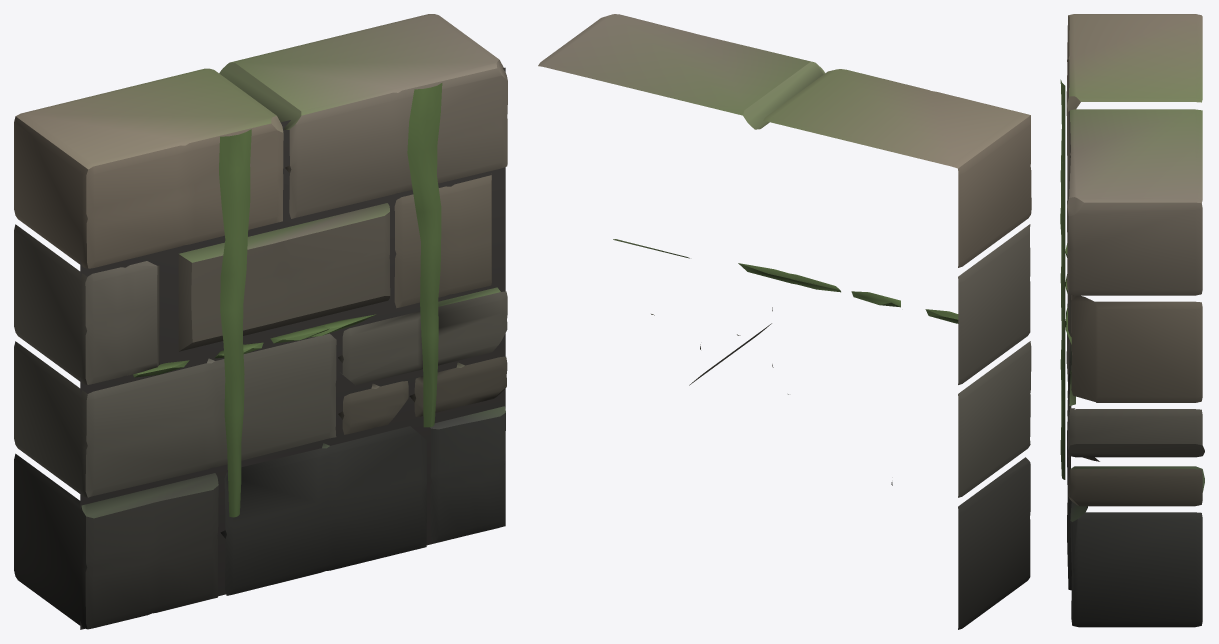
File: ruins-wall-damp-v2.glb
3 renders of one model, left to right at view 1: azimuth 30°, elevation 25°; view 2: azimuth 150°, elevation 25°; view 3: azimuth 270°, elevation 25°, orthographic. The views are drawn at different scales.
Parts seen in each view (by area): view 1: 0_ruins_wall_damp; view 2: 0_ruins_wall_damp; view 3: 0_ruins_wall_damp.
Boxes of the visible parts, x1,y1,x2,y2 form: 0_ruins_wall_damp: (14,14,507,629); 0_ruins_wall_damp: (538,14,1031,629); 0_ruins_wall_damp: (1060,14,1204,627).
Bounding box in the file's own units: 1.98 × 2.07 × 0.6351.
